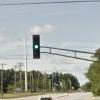traffic lights: (31, 33, 41, 61)
